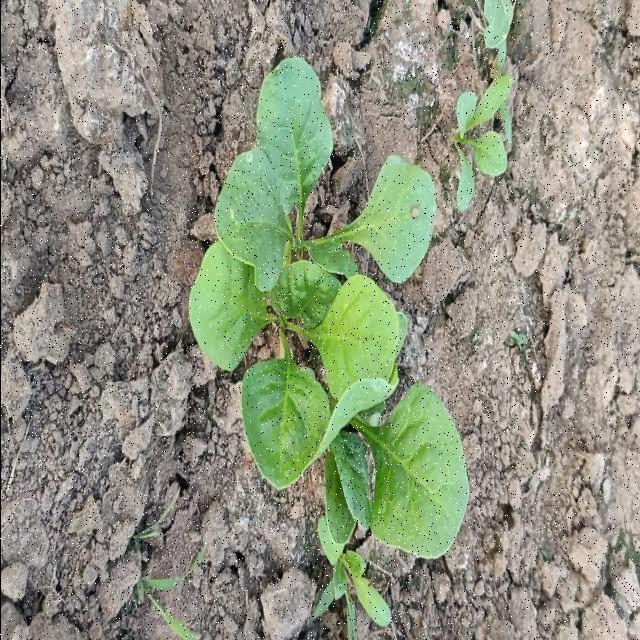plant: (189, 57, 468, 632)
